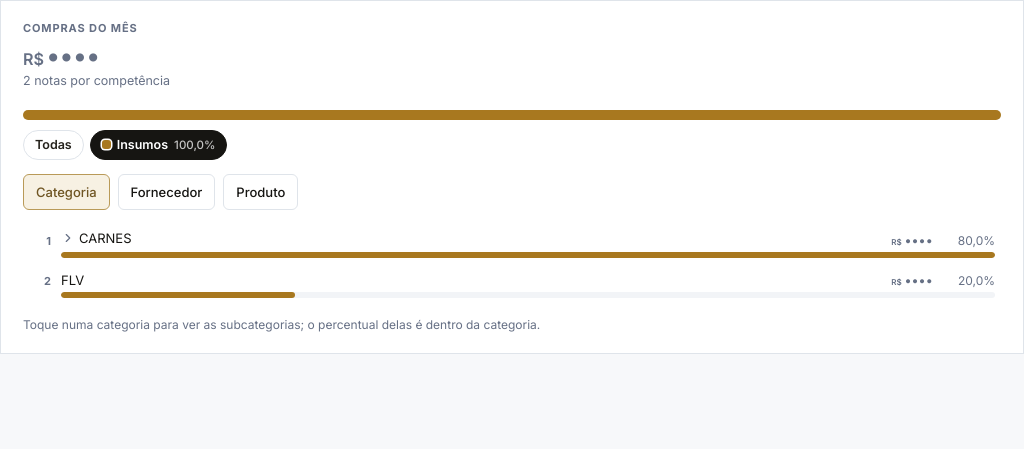
Test: subcategorias na aba Categoria › ocultar valores esconde os reais da sublista (percentual continua)
This screenshot has width=1024, height=449.
Click the button "CARNES" at [105, 238], box [61,230,881,246]
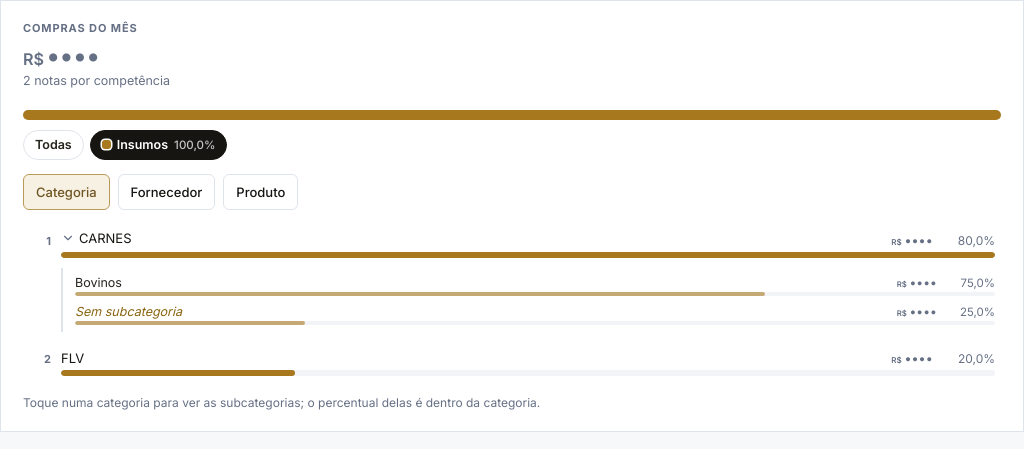
Now the list named "Subcategorias de CARNES" shows "75,0%", box [960,276,995,290]
